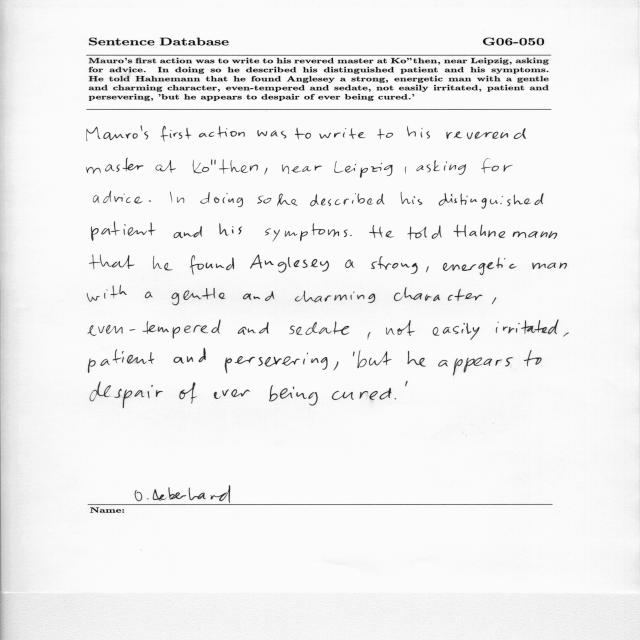word: (88, 320, 221, 338), (225, 353, 328, 374), (90, 382, 163, 409), (439, 193, 544, 209), (89, 349, 155, 373), (265, 223, 348, 242), (454, 225, 557, 239), (250, 255, 329, 273), (438, 358, 513, 376), (91, 221, 156, 241), (443, 258, 516, 275), (394, 287, 482, 301), (269, 385, 318, 406), (334, 161, 393, 178), (193, 159, 258, 174), (310, 194, 385, 207), (295, 291, 375, 303), (86, 158, 144, 174), (172, 288, 226, 305), (87, 126, 148, 141), (446, 128, 526, 139), (190, 255, 234, 275), (496, 320, 558, 334), (371, 256, 418, 274), (289, 321, 349, 335), (433, 323, 479, 340), (416, 160, 466, 175), (332, 388, 391, 400), (87, 285, 127, 302), (201, 192, 244, 207), (90, 255, 135, 269), (357, 350, 392, 368), (93, 191, 143, 203), (199, 126, 245, 138), (407, 225, 442, 240), (319, 128, 366, 139), (481, 158, 513, 174), (174, 348, 206, 364), (161, 126, 192, 141), (386, 320, 415, 336), (238, 322, 269, 335), (282, 164, 322, 174), (179, 382, 197, 404), (214, 389, 250, 399), (173, 226, 202, 238), (369, 225, 394, 238), (243, 291, 274, 301), (407, 351, 426, 367), (153, 256, 173, 271), (407, 126, 430, 139), (219, 223, 242, 236), (524, 350, 542, 366), (155, 160, 176, 173), (277, 193, 298, 206), (401, 192, 422, 205), (532, 263, 567, 270), (258, 130, 287, 138), (295, 128, 311, 139), (170, 191, 184, 203), (378, 129, 393, 139), (258, 196, 272, 204), (345, 260, 355, 268), (145, 292, 153, 299), (334, 362, 338, 371), (563, 332, 569, 337), (264, 168, 268, 175), (492, 298, 496, 305), (368, 332, 371, 340), (426, 266, 429, 272), (406, 381, 408, 386), (405, 167, 406, 174), (353, 352, 354, 357), (149, 200, 151, 202), (350, 235, 352, 236), (395, 399, 397, 400)
